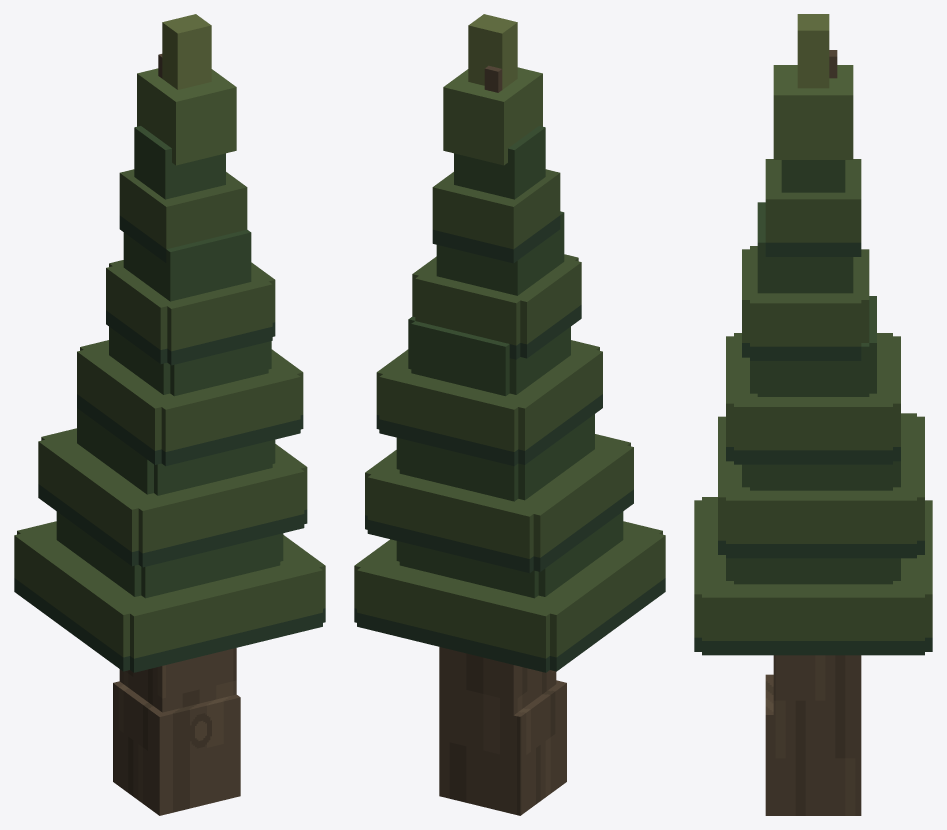
File: pine_ancient_3.glb
The picture shows the model from 3 angles, left to right: view 1: azimuth 30°, elevation 25°; view 2: azimuth 150°, elevation 25°; view 3: azimuth 270°, elevation 25°; orthographic projection. The views are drawn at different scales.
Visible parts, largest first — view 1: VoxelVisual; view 2: VoxelVisual; view 3: VoxelVisual.
Boxes of the visible parts, x1,y1,x2,y2 form: VoxelVisual: (14,14,325,815); VoxelVisual: (354,14,665,815); VoxelVisual: (694,14,932,815).
Size of what is drawn, in the model's own units: 7.5 by 27 by 7.5.
